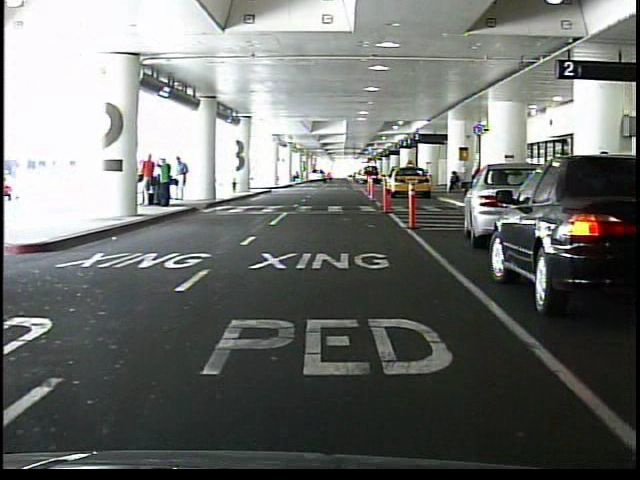person: (142, 152, 156, 207), (158, 157, 172, 208), (175, 157, 190, 203), (446, 171, 461, 195)
